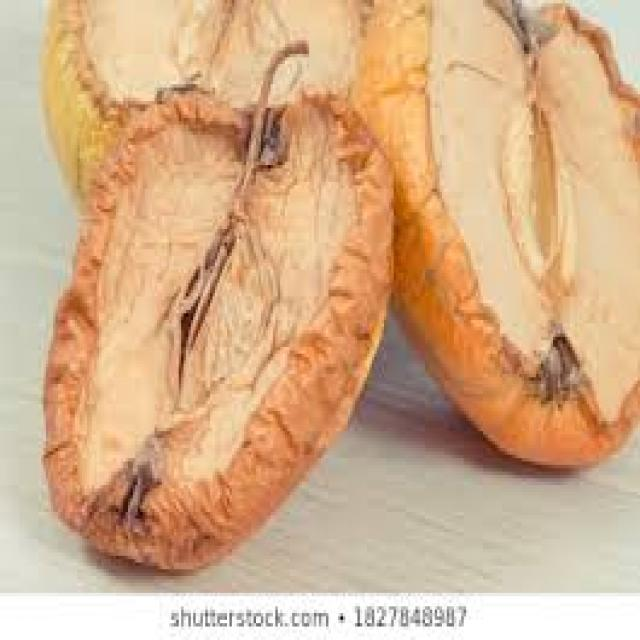organic waste: (41, 37, 394, 563), (350, 0, 638, 465), (38, 0, 364, 199)
